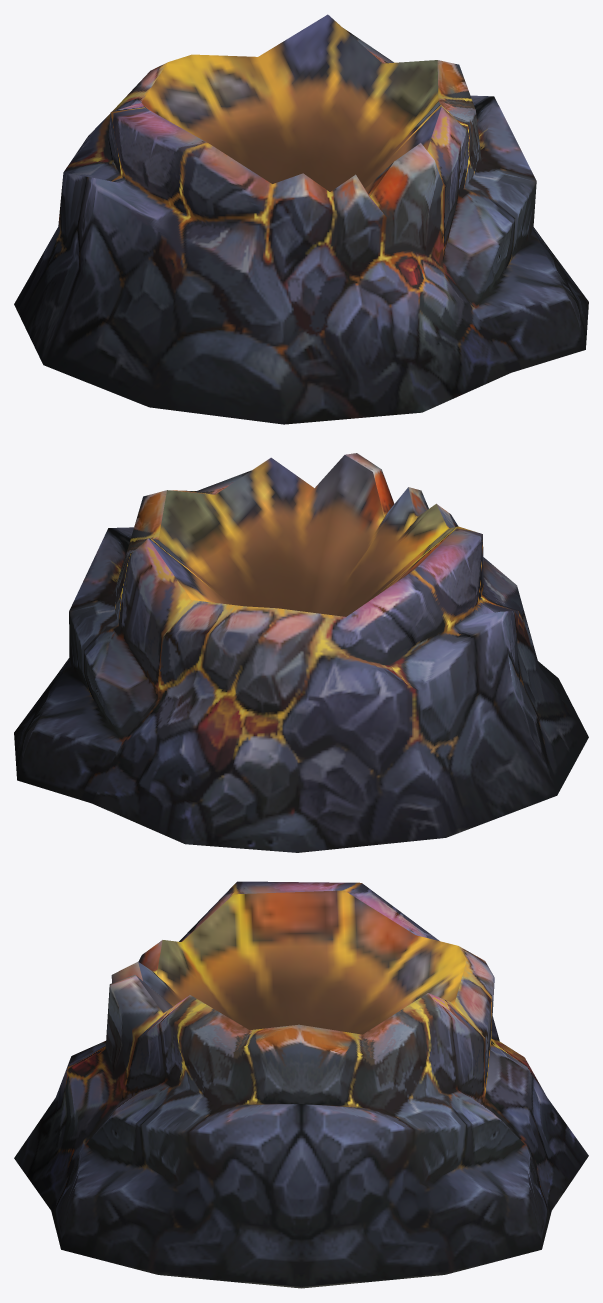
The model's file is 20502051_dizuo.FBX.
3 renders of one model, top to bottom at view 1: azimuth 30°, elevation 25°; view 2: azimuth 150°, elevation 25°; view 3: azimuth 270°, elevation 25°, orthographic.
Visible parts, largest first — view 1: n2050_dizuo; view 2: n2050_dizuo; view 3: n2050_dizuo.
Part boxes in pixels (x1,y1,x2,y2): n2050_dizuo: (14,14,588,424); n2050_dizuo: (14,453,588,852); n2050_dizuo: (14,881,588,1288).
Bounding box in the file's own units: 349 × 147 × 346.
